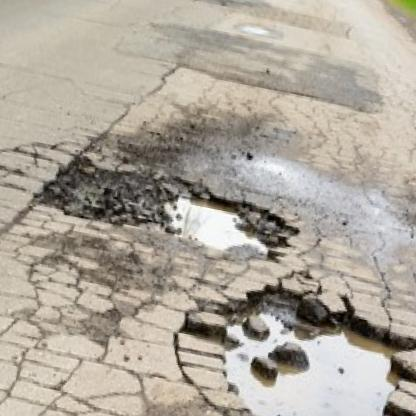pothole: (199, 266, 416, 416), (146, 171, 307, 271)
